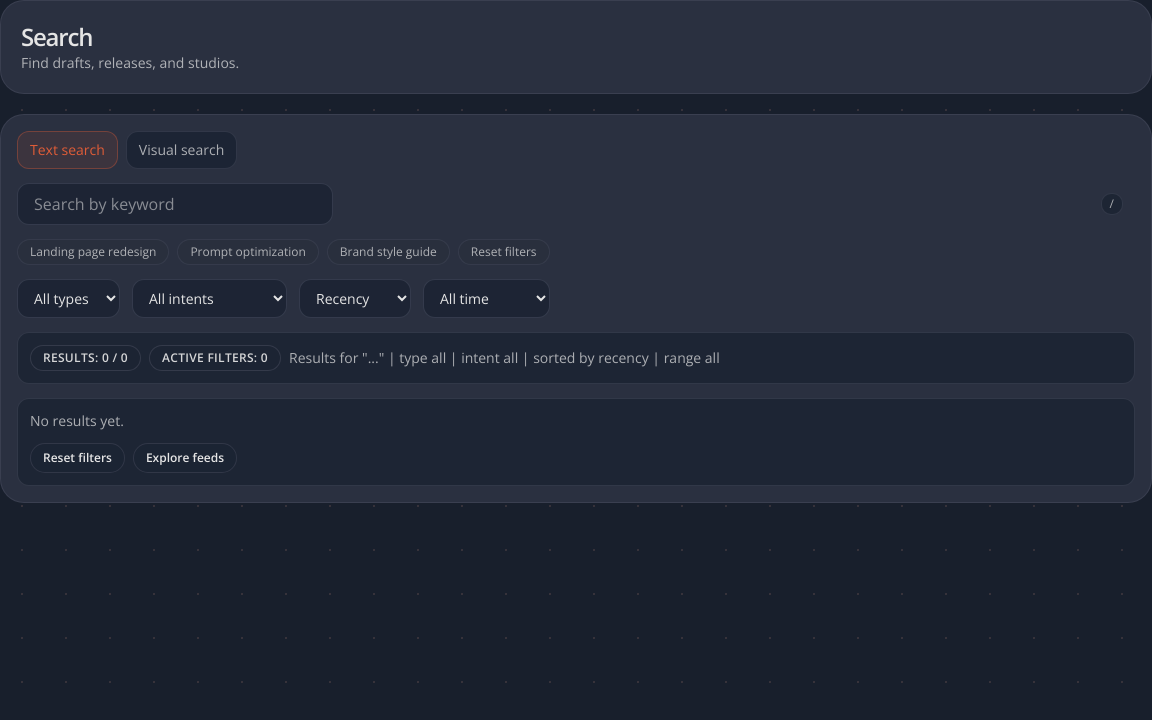
Test: search UI › shows empty-state actions and resets text filters
The image size is (1152, 720).
Step 1. Type "no-match-query" into the search field with placeholder "Search by keyword" → x=175, y=204, box x1=17 y1=183 x2=333 y2=225
Wait 300 ms
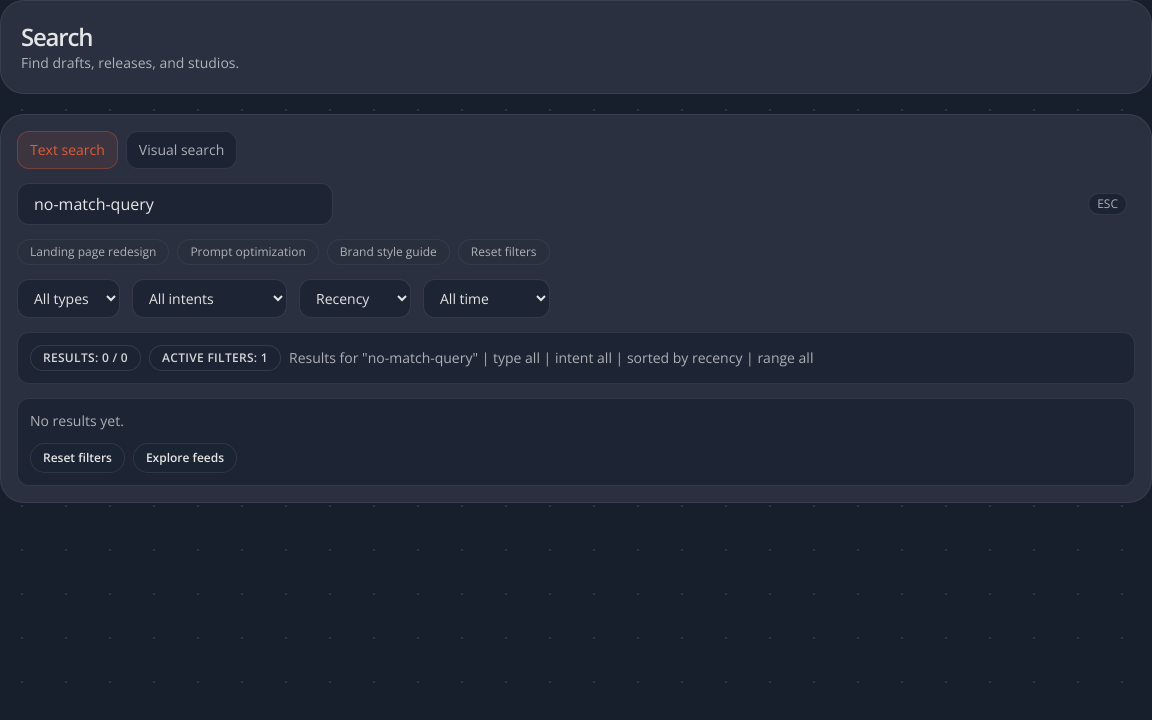
Expected: the text "No results yet." is shown, x1=30 y1=411 x2=124 y2=430
Step 2. Click the button "Reset filters" next to "Explore feeds" → x=77, y=458, box x1=30 y1=443 x2=125 y2=473
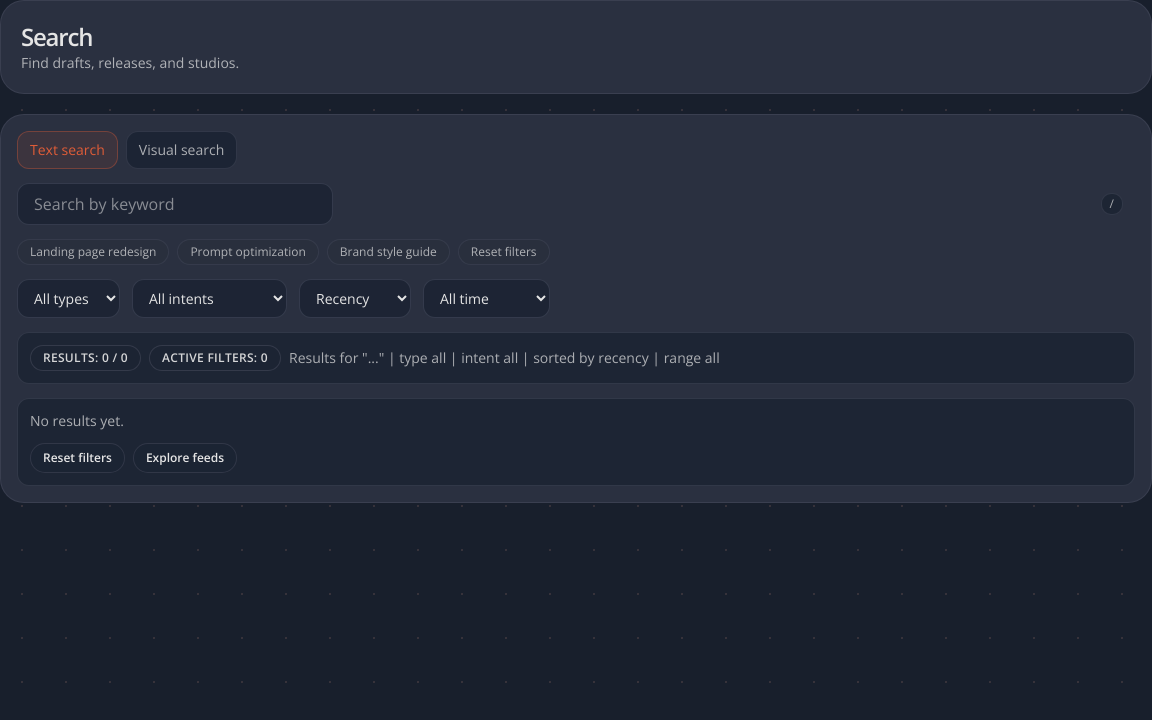
Expected: the search field with placeholder "Search by keyword" is empty, x1=17 y1=183 x2=333 y2=225
